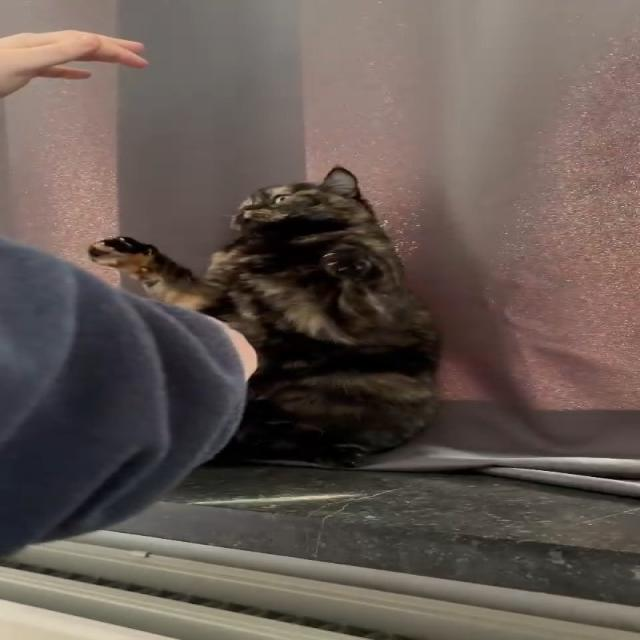authorized: (86, 165, 442, 469)
